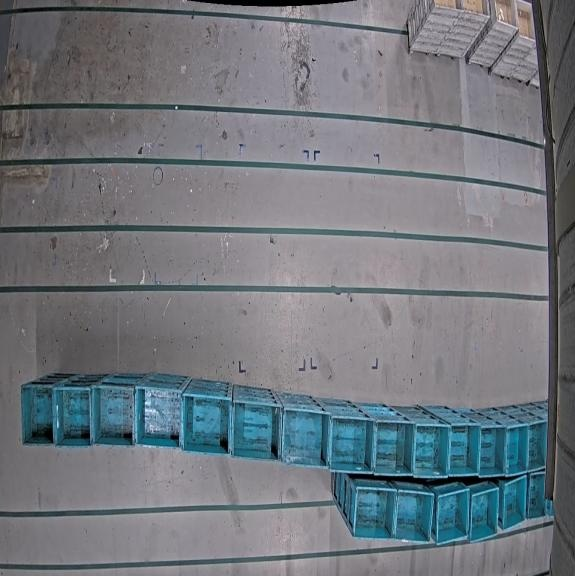Box: (278, 403, 330, 468), (181, 389, 231, 454), (230, 396, 279, 461), (349, 478, 396, 542), (327, 409, 373, 473), (91, 380, 136, 445), (138, 385, 182, 446), (372, 416, 411, 478), (411, 419, 451, 479), (56, 384, 94, 446), (21, 382, 57, 445), (467, 482, 502, 541), (436, 489, 469, 550), (397, 490, 433, 545), (449, 423, 479, 477), (522, 470, 552, 524), (478, 421, 506, 477), (504, 475, 526, 532), (526, 420, 548, 474), (506, 425, 528, 475), (515, 0, 536, 42), (494, 0, 519, 30), (462, 0, 489, 17)
